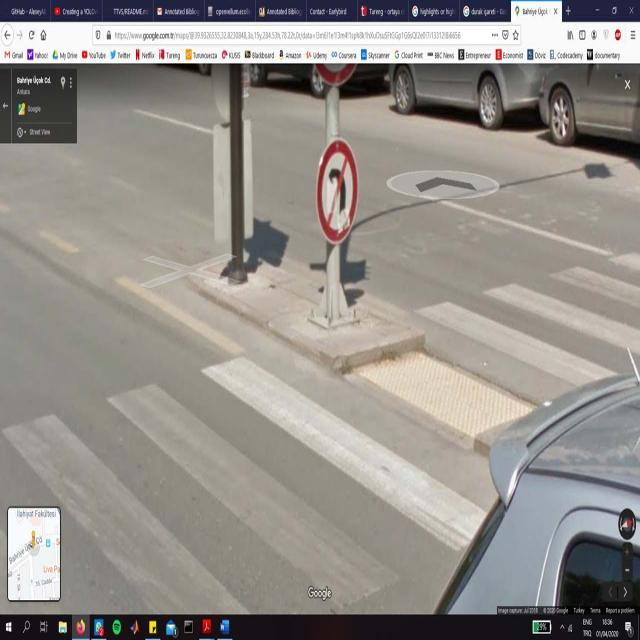soladonulmez: (319, 141, 356, 239)
